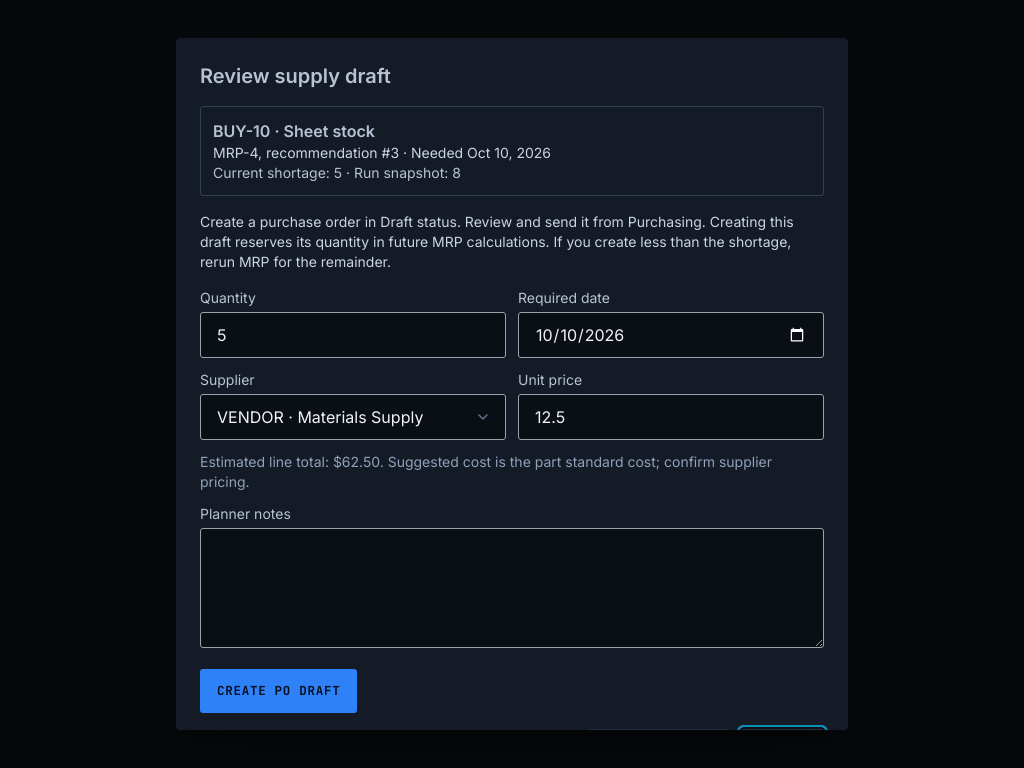
Test: stale shortage rejection reloads current review without reporting success
Click the button "Create PO draft" at (279, 691), box [200,669,358,713]
(page scrolled)
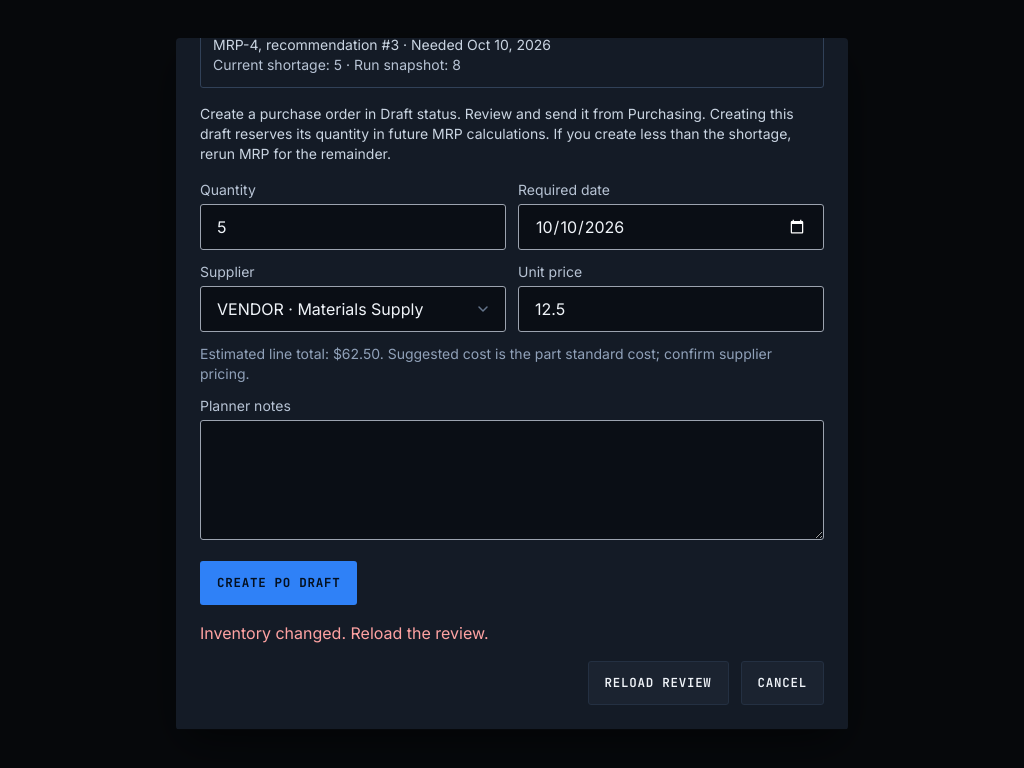
Expected: the message shows "Inventory changed", [200,623,488,643]
Click the button "Reload review" at (658, 683), box [588,661,729,705]
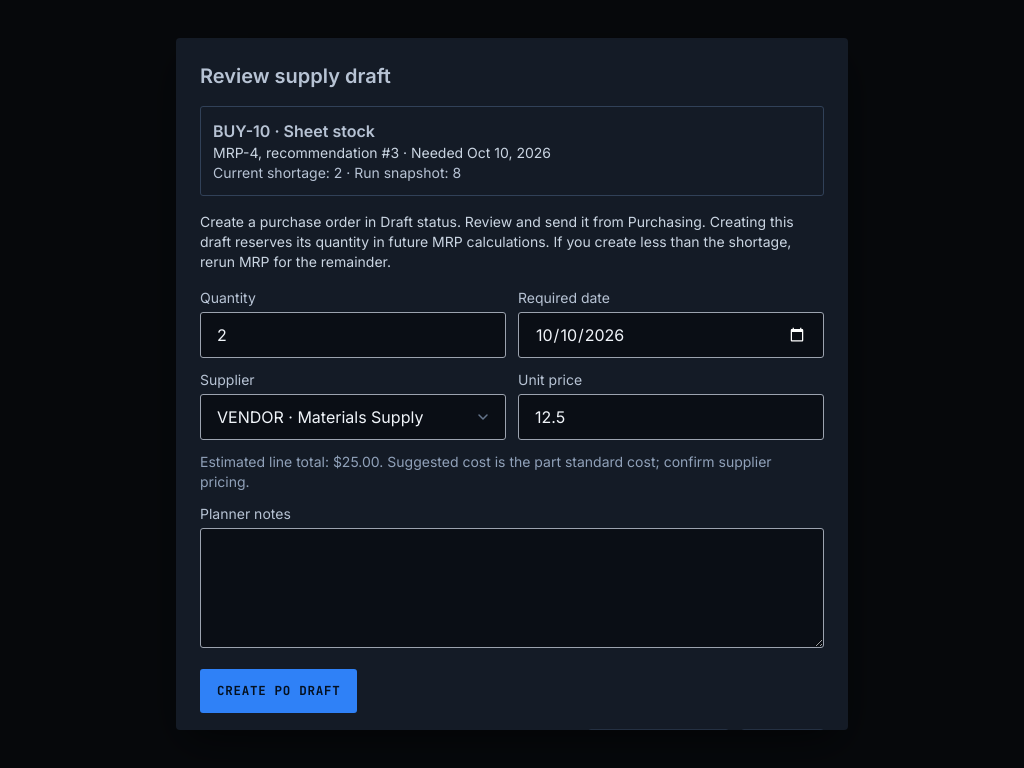
Expected: the number field labelled "Quantity" holds "2", [200,312,506,358]
